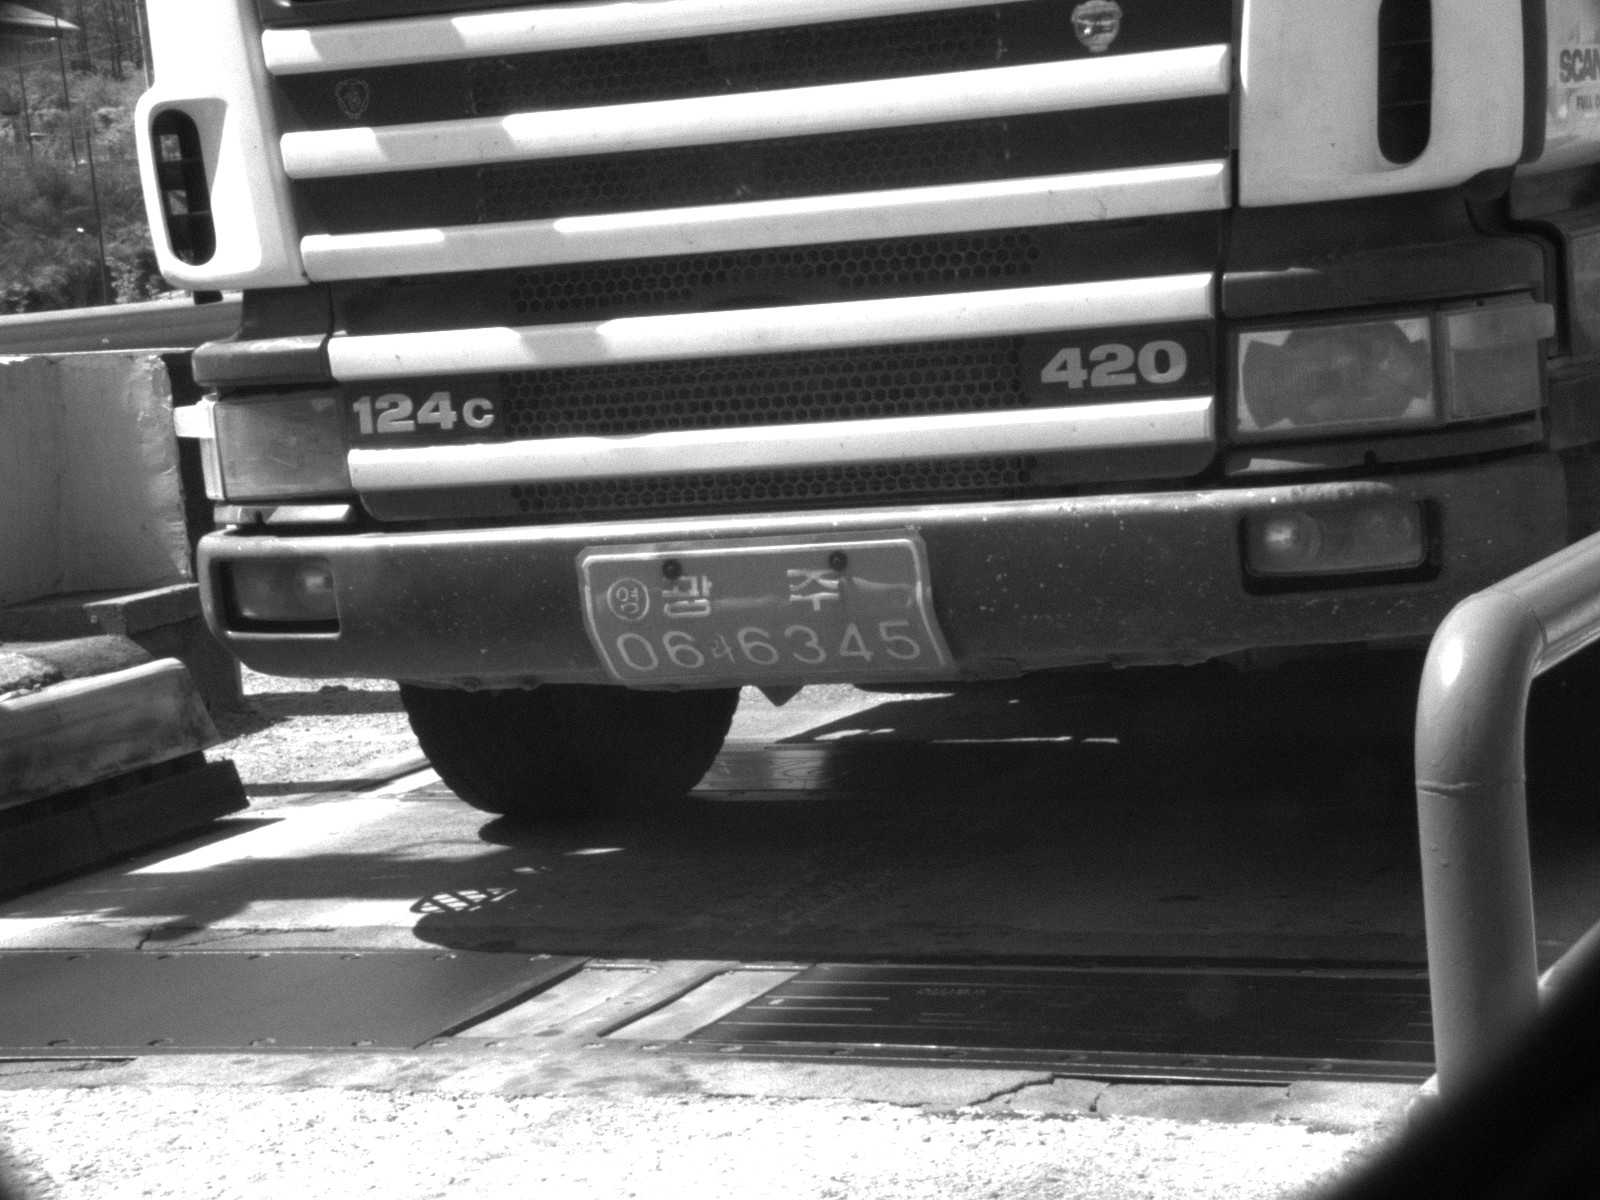car: (122, 1, 1599, 819)
plate: (567, 523, 971, 694)
